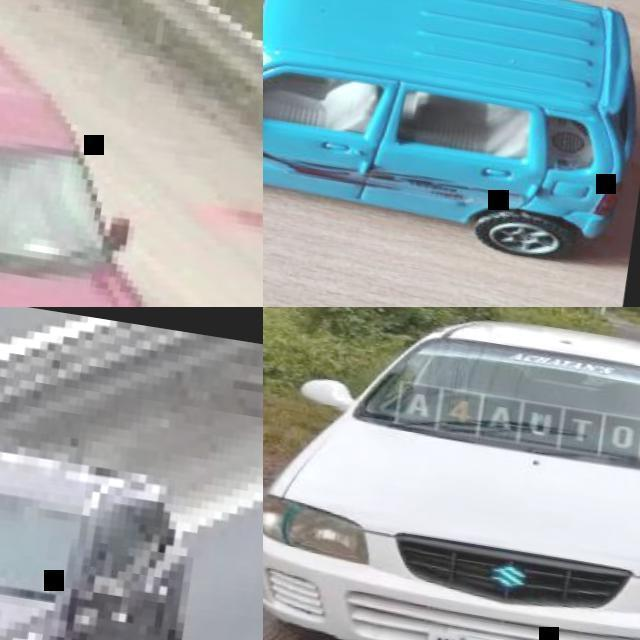car: (263, 320, 640, 639), (1, 448, 187, 639)
